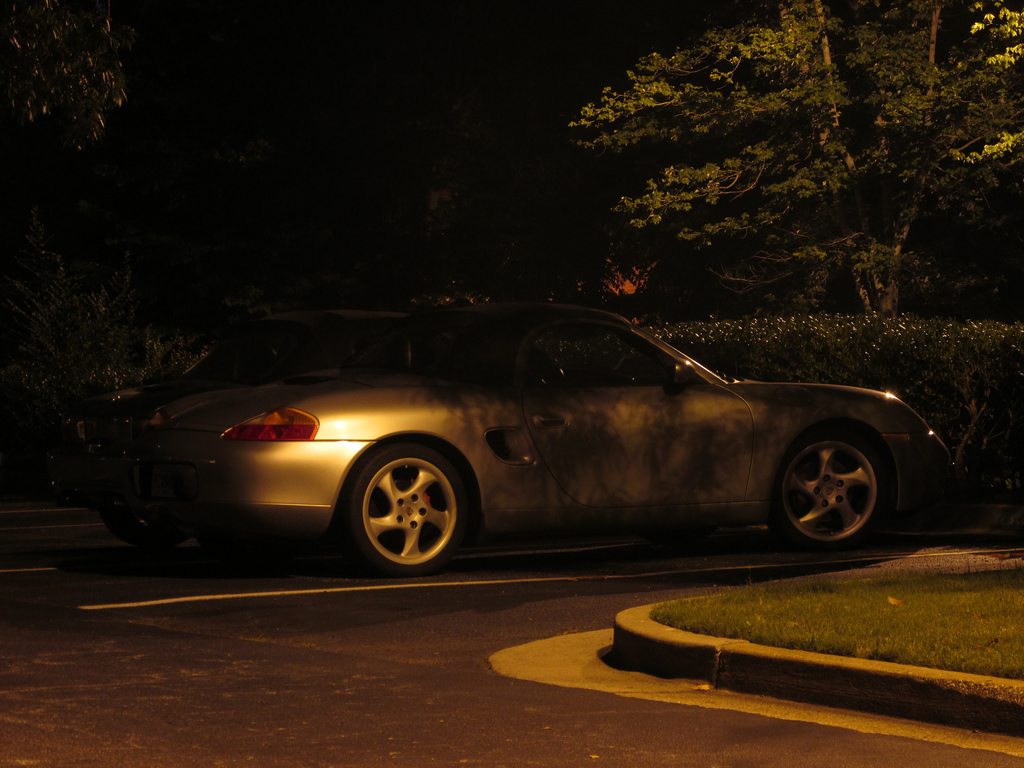car: (121, 289, 967, 590)
